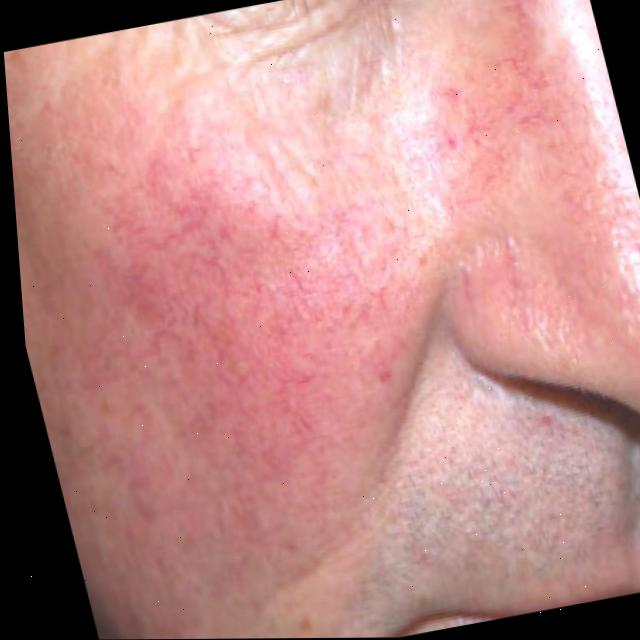Rosacea: (69, 102, 499, 573), (374, 0, 640, 374)
